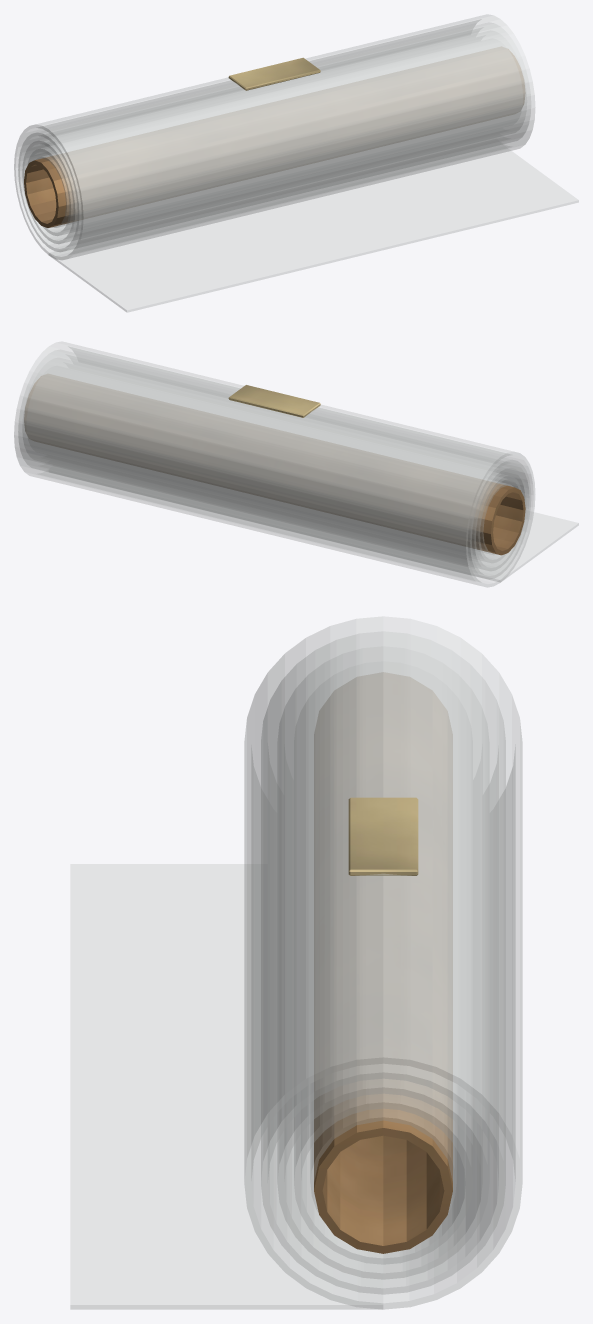
Rendered from rolo_plastico.glb.
The picture shows the model from 3 angles, top to bottom: view 1: azimuth 30°, elevation 25°; view 2: azimuth 150°, elevation 25°; view 3: azimuth 270°, elevation 25°; orthographic projection. The views are drawn at different scales.
Parts seen in each view (by area): view 1: rolo_plastico_plastico_estufa, rolo_plastico_papelao, rolo_plastico_fita_crepe; view 2: rolo_plastico_plastico_estufa, rolo_plastico_papelao, rolo_plastico_fita_crepe; view 3: rolo_plastico_plastico_estufa, rolo_plastico_papelao, rolo_plastico_fita_crepe.
Boxes of the visible parts, box(x1,y1,x2,y2) form: rolo_plastico_plastico_estufa: box(14, 14, 578, 312); rolo_plastico_papelao: box(24, 49, 525, 227); rolo_plastico_fita_crepe: box(228, 57, 320, 90); rolo_plastico_plastico_estufa: box(14, 341, 578, 587); rolo_plastico_papelao: box(24, 376, 525, 555); rolo_plastico_fita_crepe: box(228, 385, 320, 417); rolo_plastico_plastico_estufa: box(70, 616, 522, 1309); rolo_plastico_papelao: box(314, 1078, 452, 1253); rolo_plastico_fita_crepe: box(348, 797, 418, 875).
Bounding box in the file's own units: 0.62 × 0.162 × 0.26.
3 materials, 2 textured.
